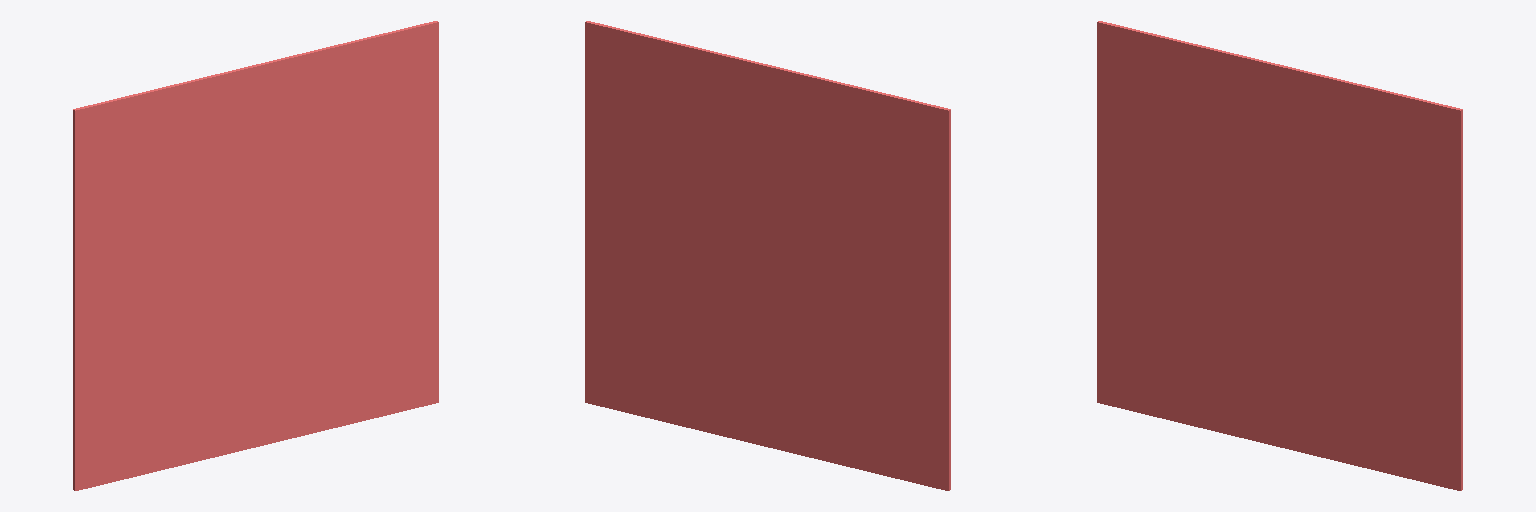
The robot description file, URDF, robot "floor":
<?xml version="1.0" ?>
<robot name="floor">
  <link name="world"/>

  <joint name="floor_to_world" type="fixed">
    <parent link="world"/>
    <child link="floor"/>
    <origin xyz="0 -0.08 0" rpy="0 0 0" />
  </joint>

  <link name="floor">
    <inertial>
       <origin rpy="0 0 0" xyz="0 0 0"/>
       <mass value="1.0"/>
       <inertia ixx="1" ixy="0" ixz="0" iyy="1" iyz="0" izz="1"/>
    </inertial>
    <visual>
      <origin rpy="0 0 0" xyz="0 0 0"/>
      <geometry> <mesh filename="floor.obj"/> </geometry>
      <material name="white"> <color rgba="1 0.5 0.5 0.5"/> </material>
    </visual>
    <collision>
      <origin rpy="0 0 0" xyz="0 0 0"/>
      <geometry> <mesh filename="floor.obj"/> </geometry>
    </collision>
  </link>
</robot>

--- Render facts (derived) ---
The picture shows the robot from 3 angles, left to right: view 1: azimuth 30°, elevation 25°; view 2: azimuth 150°, elevation 25°; view 3: azimuth 330°, elevation 25°; orthographic projection.
Model floor with 2 links and 1 joints (1 fixed), rooted at world, posed all joints at 0.
Visible links, largest first — view 1: floor; view 2: floor; view 3: floor.
Boxes of the visible links, box(x1,y1,x2,y2) form: floor: box(73, 21, 438, 490); floor: box(585, 21, 950, 490); floor: box(1097, 21, 1462, 490).
Bounding box of the posed robot: 20 × 0.2 × 20 m (x, y, z).
Meshes: 1 distinct files referenced, 1 mesh visuals loaded (1 OBJ).